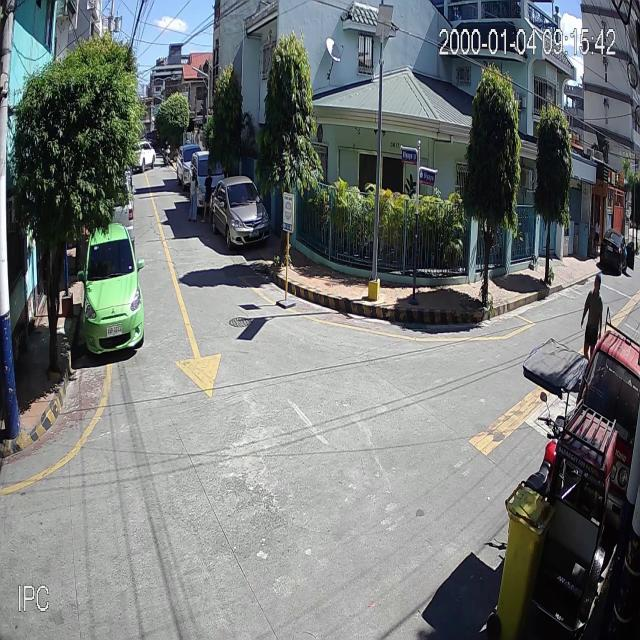walking: (581, 273, 603, 357)
